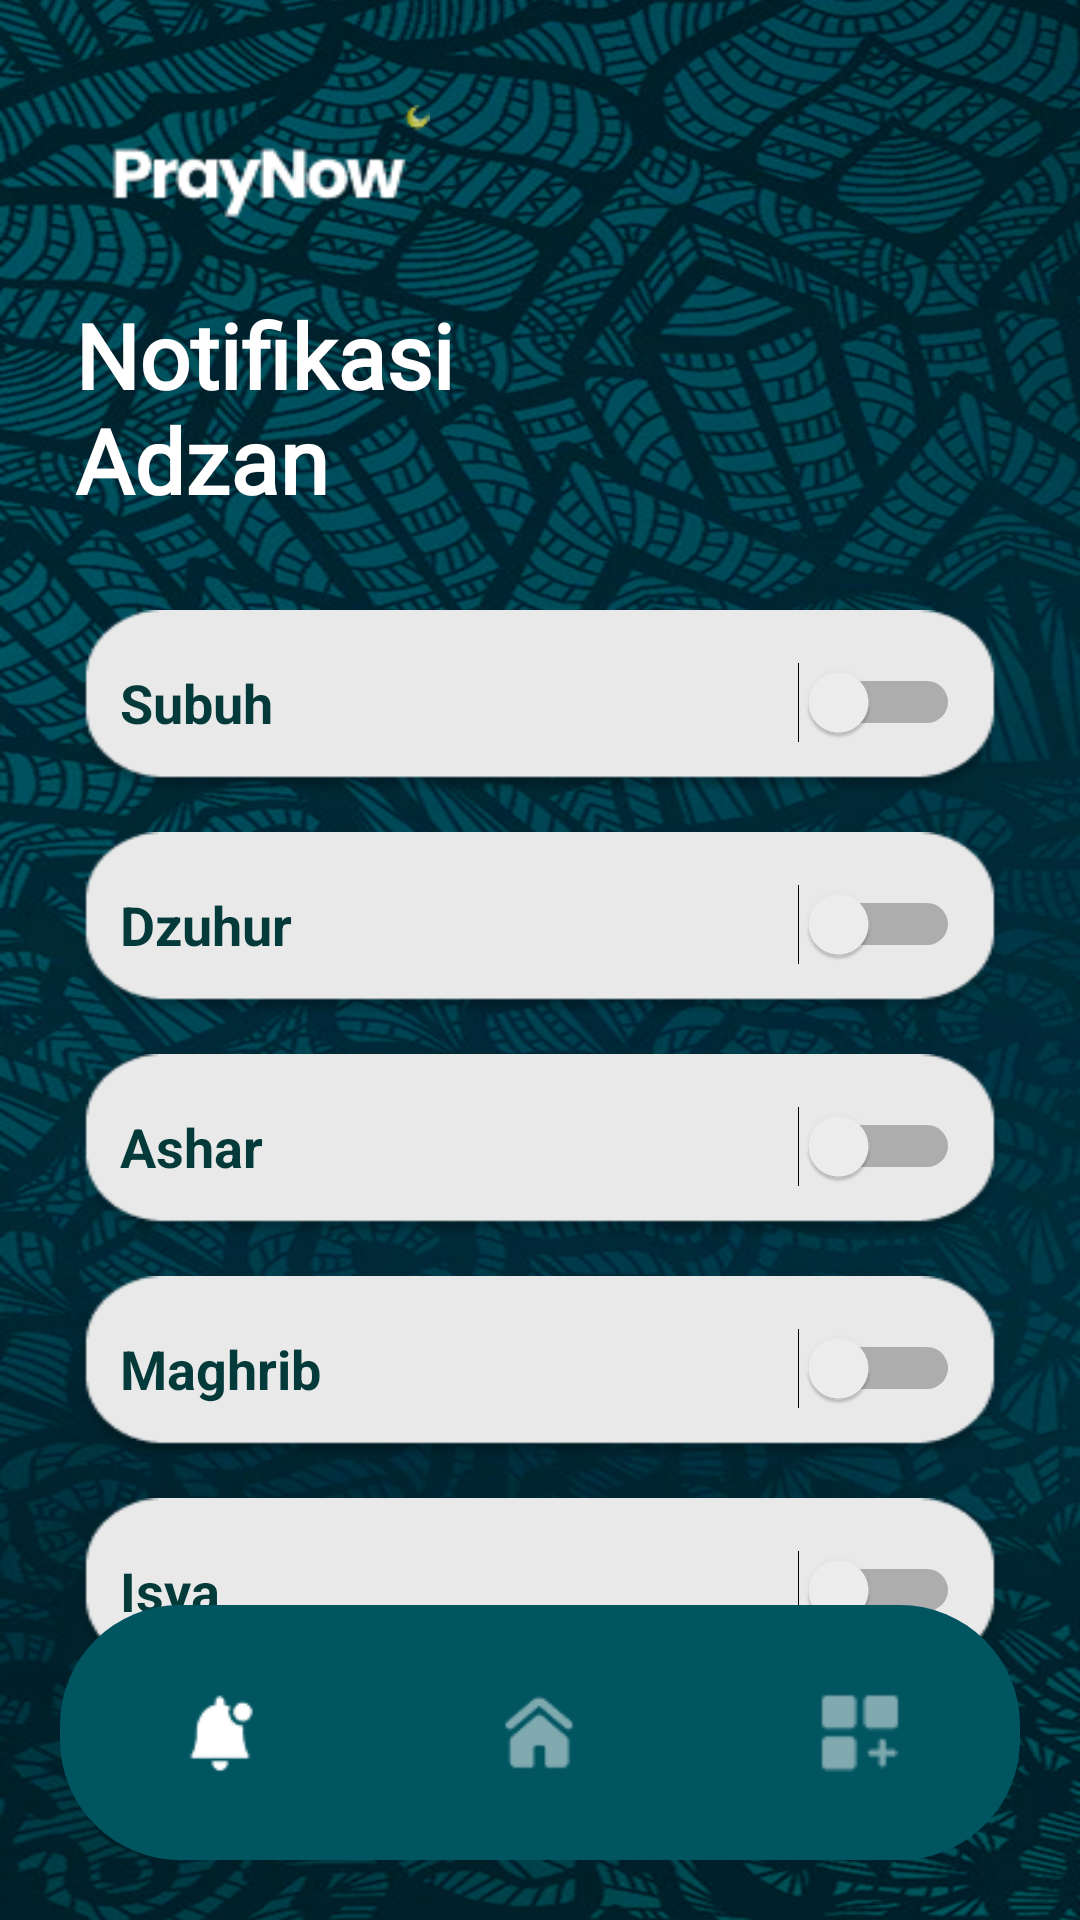

Screen size 1080px x 1920px. Icon name, then its center in pixels as (x=x, y=y):
alarm: (x=221, y=1733)
homeg: (x=539, y=1732)
